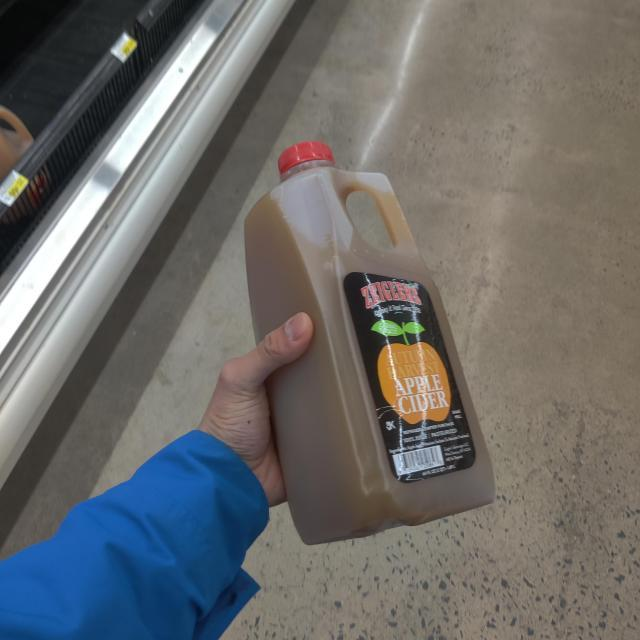Juice: (240, 134, 505, 544)
